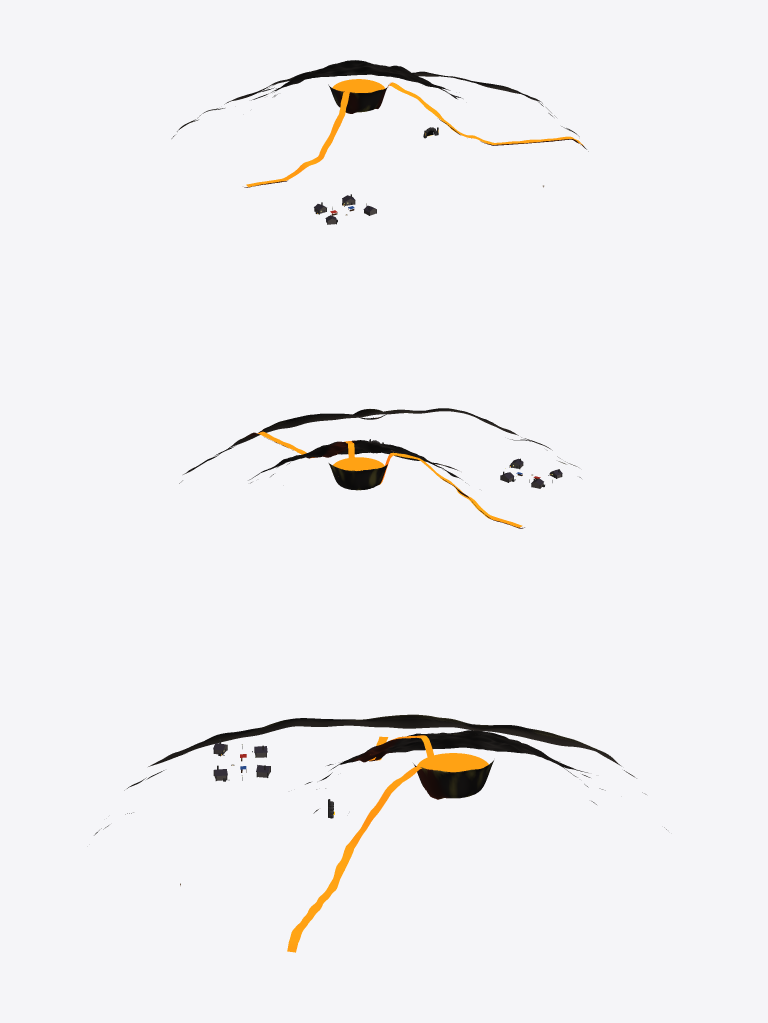
Rendered from island_volcano.glb.
The picture shows the model from 3 angles, top to bottom: view 1: azimuth 30°, elevation 25°; view 2: azimuth 150°, elevation 25°; view 3: azimuth 270°, elevation 25°; orthographic projection. The views are drawn at different scales.
Parts seen in each view (by area): view 1: Terrain_volcano, volcano_LavaRiver1, volcano_LavaRiver0, volcano_LavaLake; view 2: Terrain_volcano, volcano_LavaRiver1, volcano_LavaLake; view 3: Terrain_volcano, volcano_LavaRiver0, volcano_LavaLake.
Boxes of the visible parts, bbox=[...] form: Terrain_volcano: bbox=[171, 60, 588, 187]; volcano_LavaRiver1: bbox=[246, 92, 349, 187]; volcano_LavaRiver0: bbox=[388, 82, 583, 145]; volcano_LavaLake: bbox=[332, 79, 384, 92]; Terrain_volcano: bbox=[179, 408, 581, 528]; volcano_LavaRiver1: bbox=[379, 452, 522, 527]; volcano_LavaLake: bbox=[333, 457, 384, 470]; Terrain_volcano: bbox=[94, 714, 666, 835]; volcano_LavaRiver0: bbox=[287, 766, 421, 952]; volcano_LavaLake: bbox=[417, 753, 488, 772].
Bounding box in the file's own units: 480 × 72.36 × 480.
